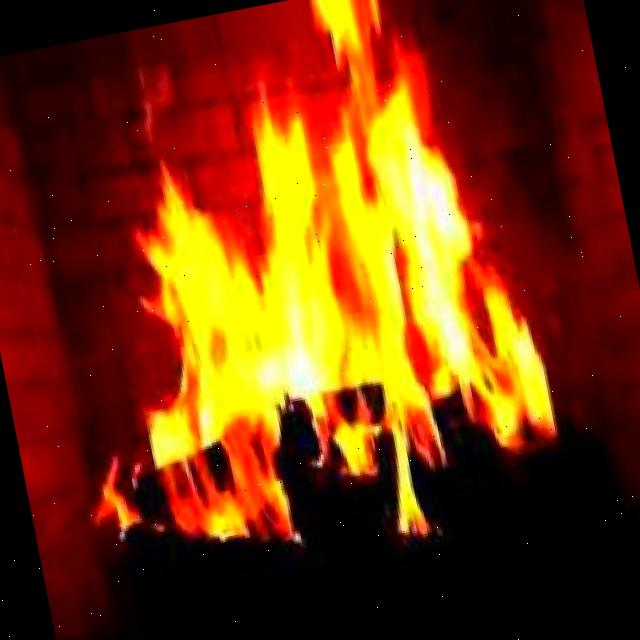fire: (86, 16, 509, 516)
